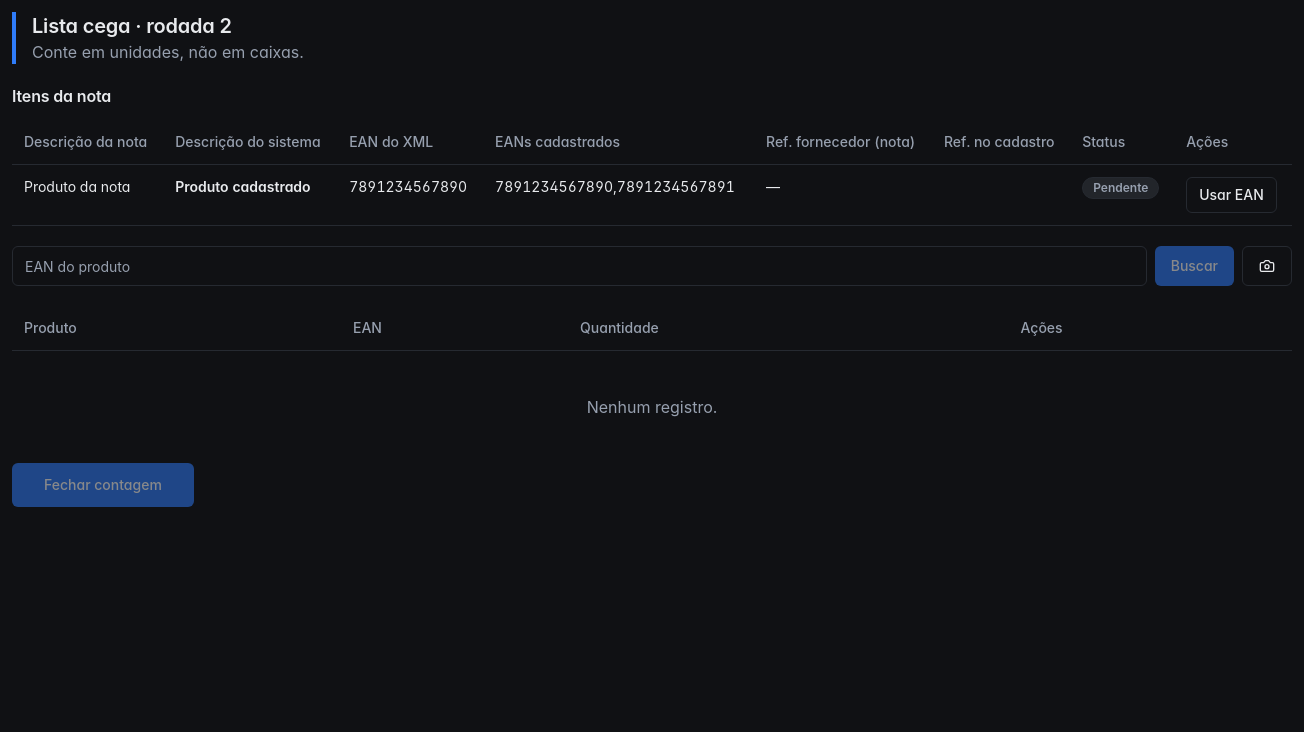
Scenario: seleção da identidade na contagem › carrega só identidade e Usar EAN resolve o cadastro e foca a quantidade
This screenshot has width=1304, height=732.
Click the button "Usar EAN" at [1231, 195], box [1186, 177, 1277, 213]
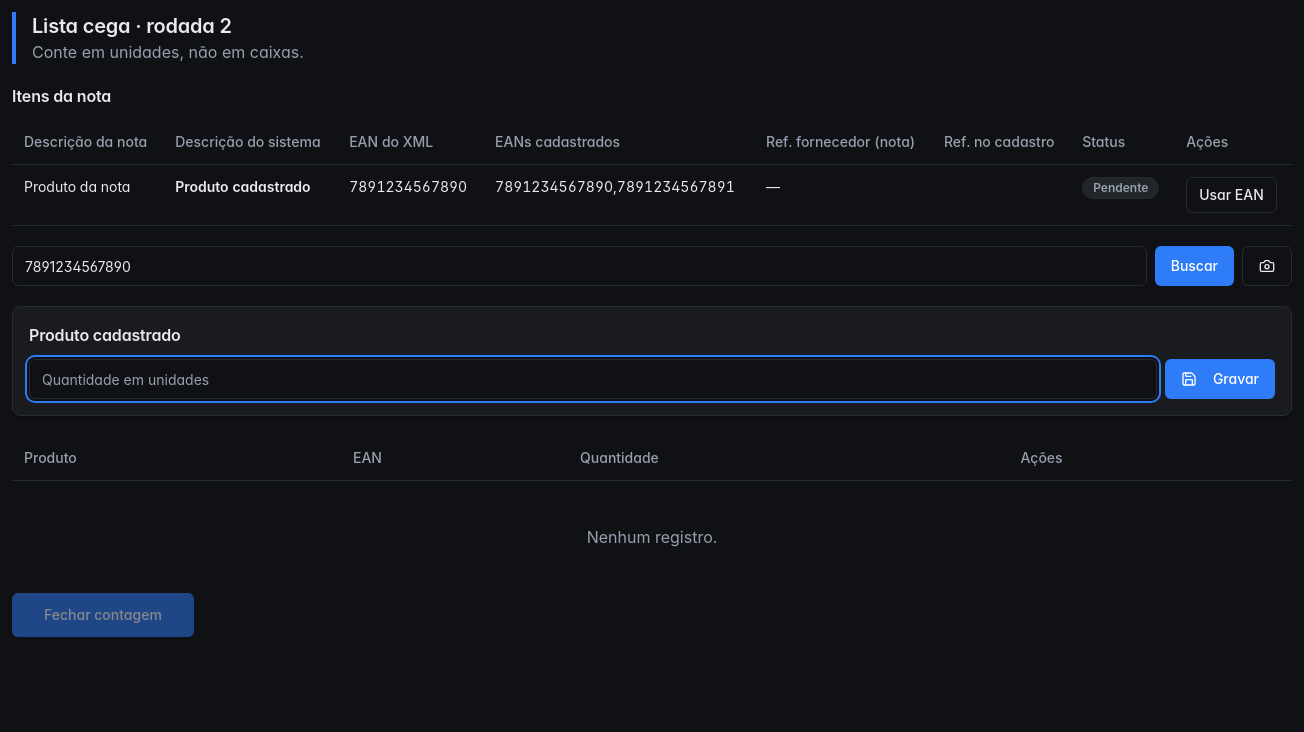
Now the field named "EAN do produto" holds "7891234567890", box [12, 246, 1147, 286]
